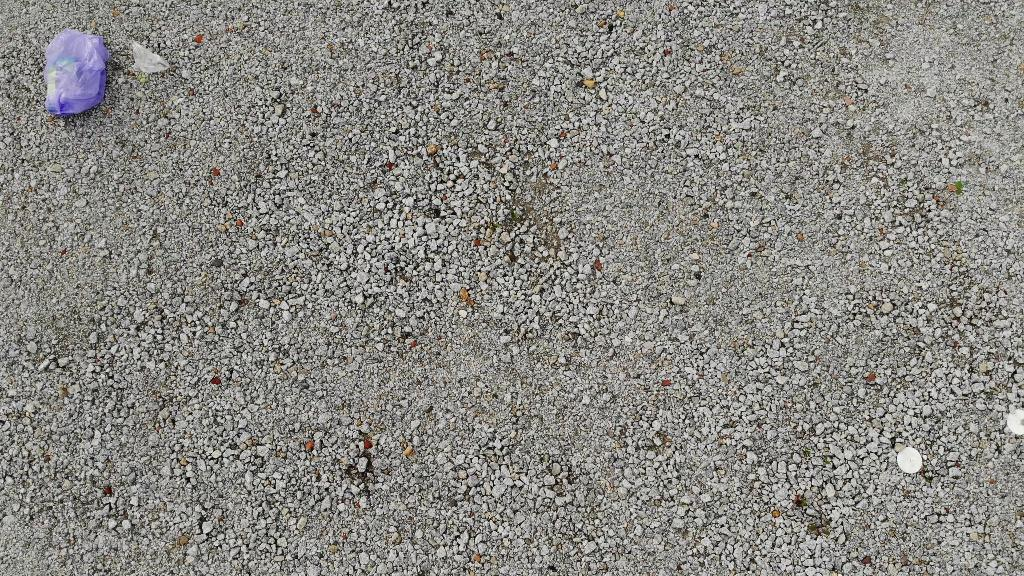garbage: (42, 26, 112, 117), (131, 37, 170, 75)
